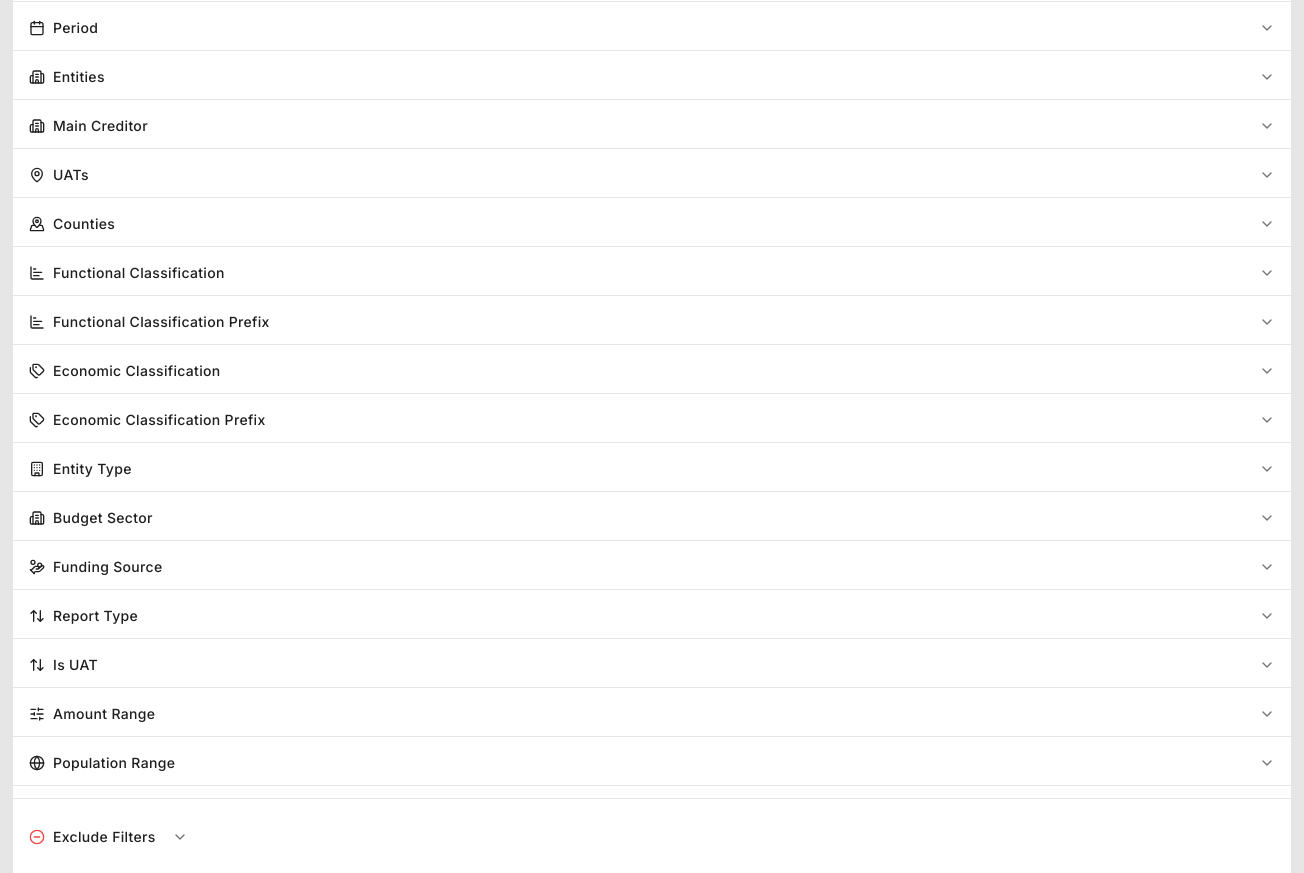
it: MapFilter › exclude filters section › shows exclude filter explanation when expanded
(page scrolled)
Click to expand accordion
What coordinates should you click on to do the following:
click the button "Exclude Filters"
I would click on:
 (108, 837)
Its box is [29,811,188,863].
(page scrolled)
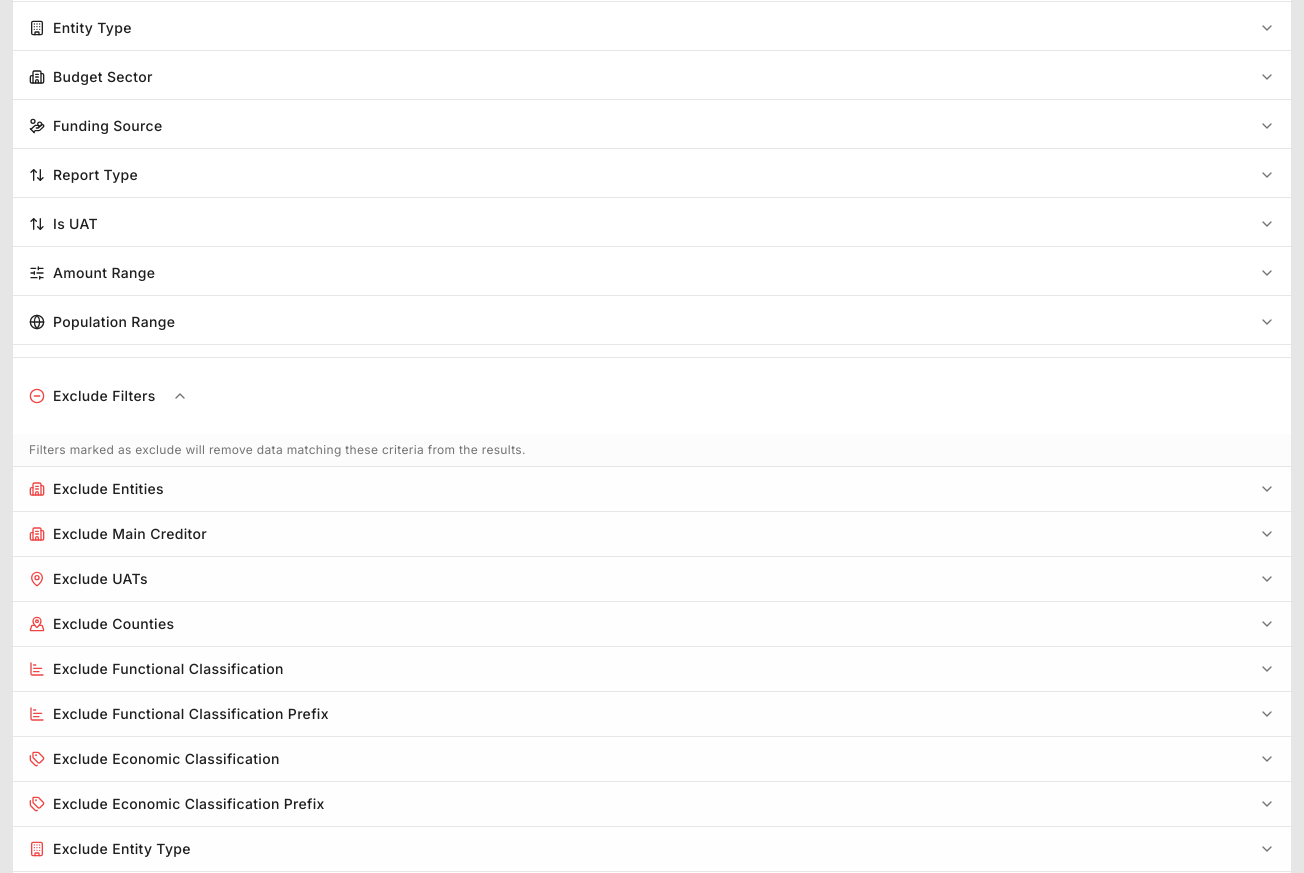
Now the text "Filters marked as exclude" is shown, box [29,442,526,457]
